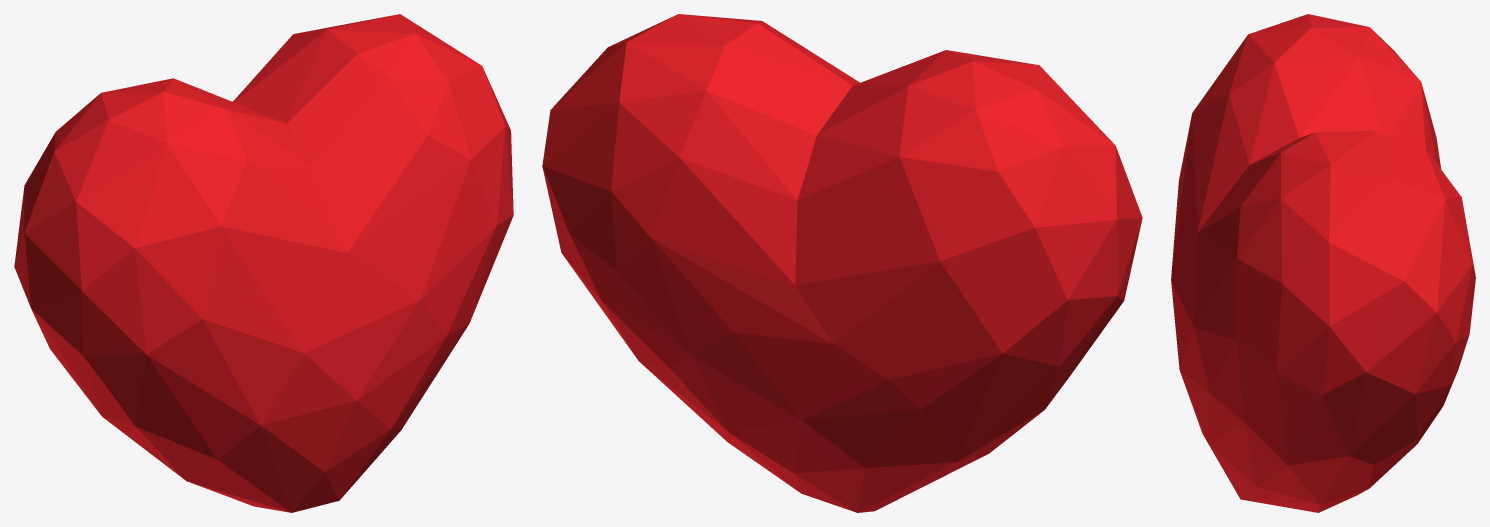
Rendered from heart.glb.
3 views of the same model, side by side, from view 1: azimuth 30°, elevation 25°; view 2: azimuth 150°, elevation 25°; view 3: azimuth 270°, elevation 25° (orthographic). The views are drawn at different scales.
Parts seen in each view (by area): view 1: node_id5; view 2: node_id5; view 3: node_id5.
Part boxes in pixels (x1,y1,x2,y2): node_id5: [14, 14, 513, 512]; node_id5: [542, 14, 1142, 512]; node_id5: [1171, 14, 1475, 512].
Bounding box in the file's own units: 0.5105 × 0.4326 × 0.2811.
1 material, 1 textured.
